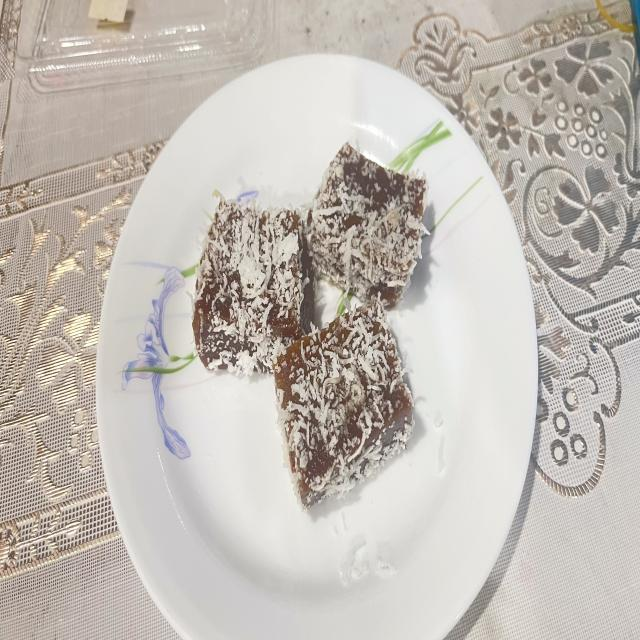kaswi: (274, 298, 414, 509), (192, 198, 314, 373), (308, 142, 428, 307)
